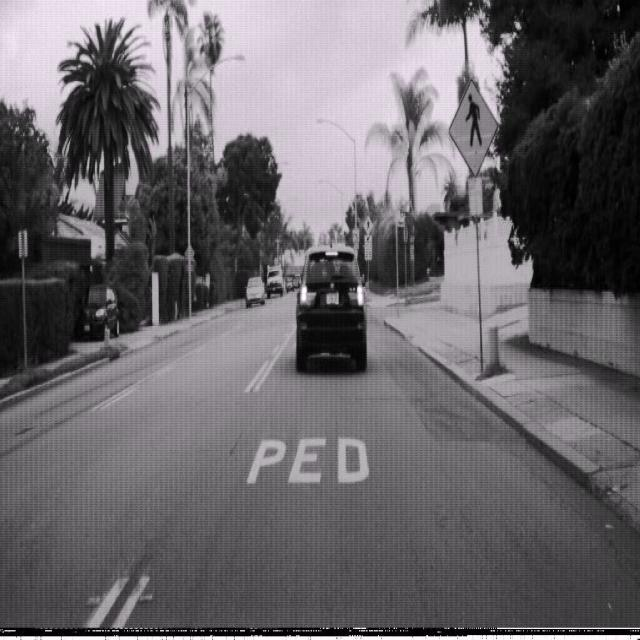pedestrianCrossing: (448, 77, 499, 177)
